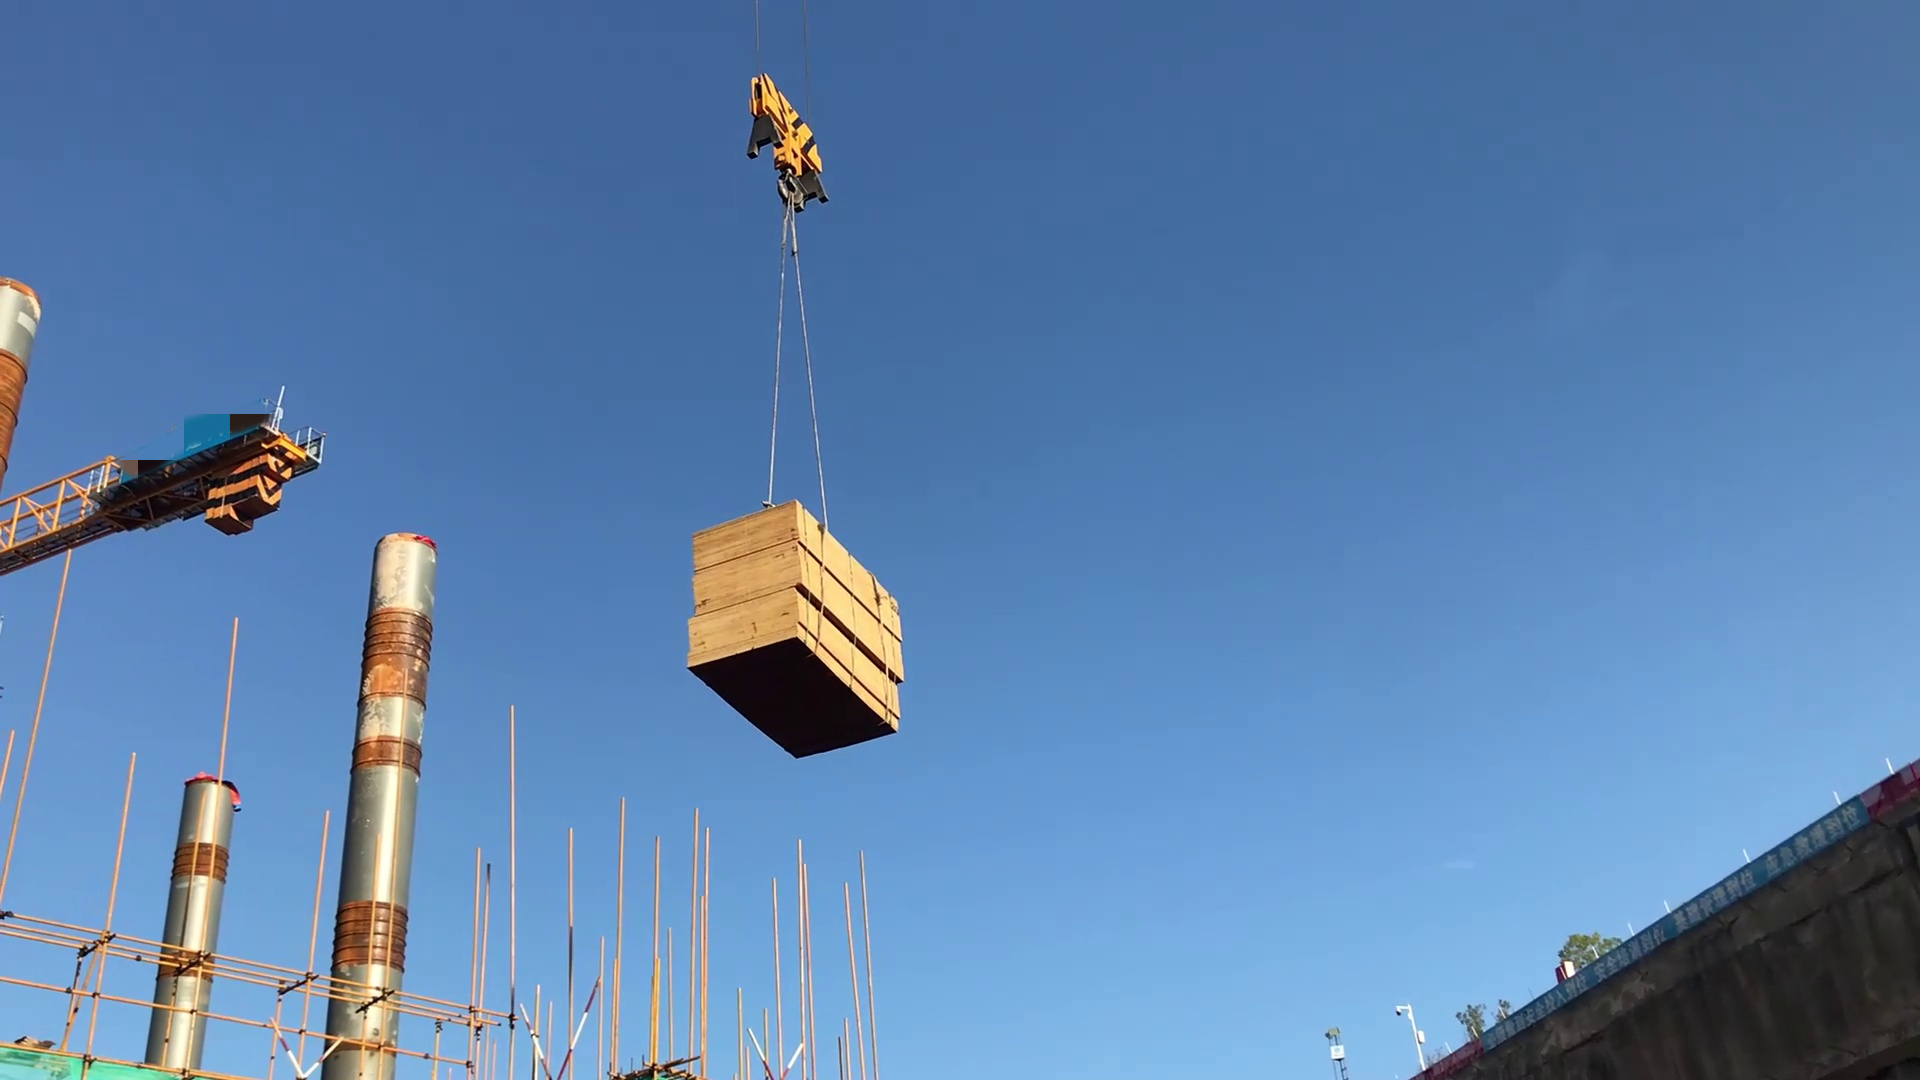board: (691, 498, 926, 773)
hook: (723, 59, 876, 262)
